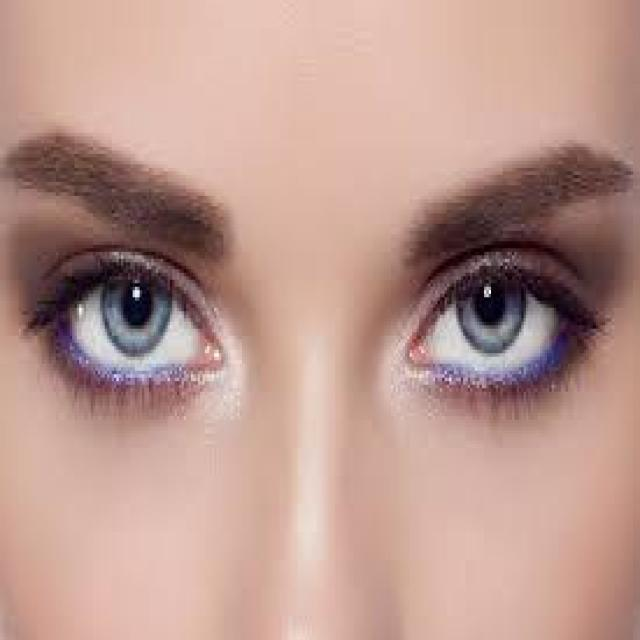Eyes-iris: (96, 261, 176, 362), (458, 266, 528, 368)
